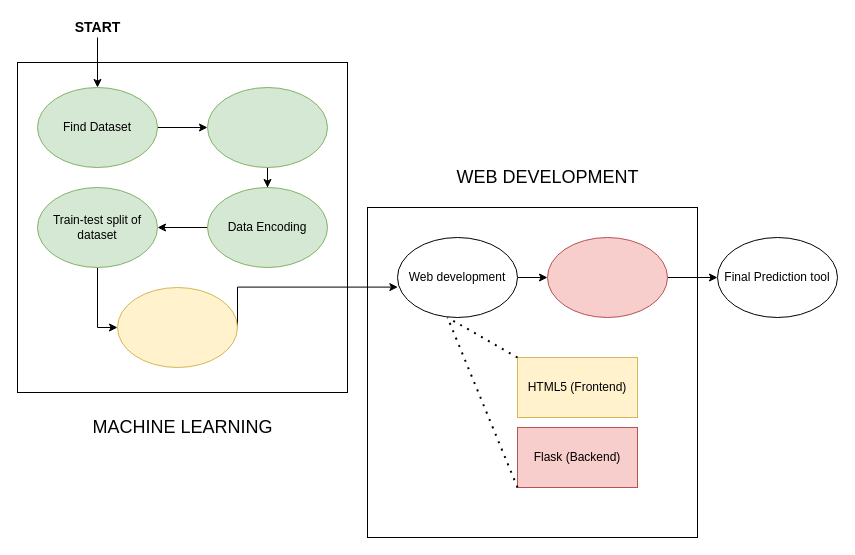
The diagram is 855 pixels wide and 555 high, and some of its shapes have lost their labels. The centre of each missing label's shape, as x and y in pixels:
Heroku Deployment: pixel 607 277
Optimisation of Dataset: pixel 267 127
Regression using LightGBM: pixel 177 327
